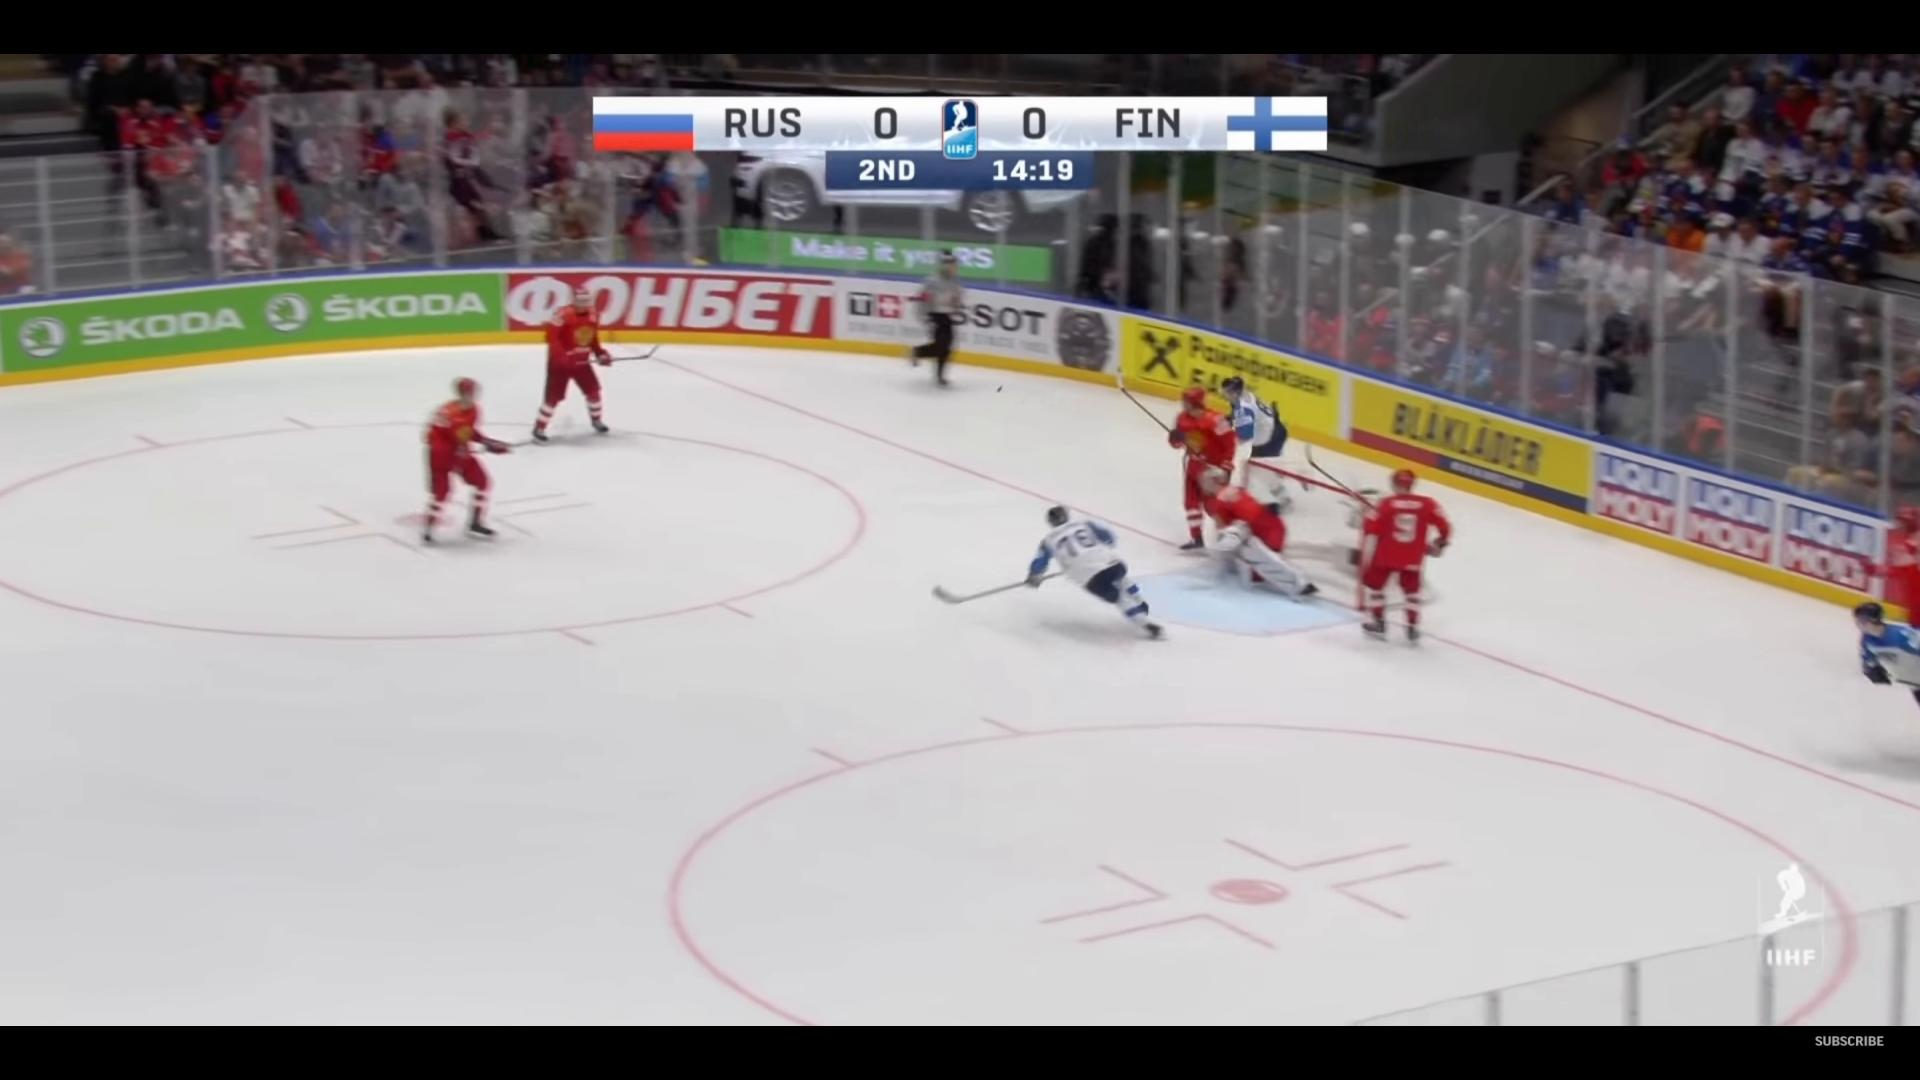puck: (994, 384, 1002, 392)
